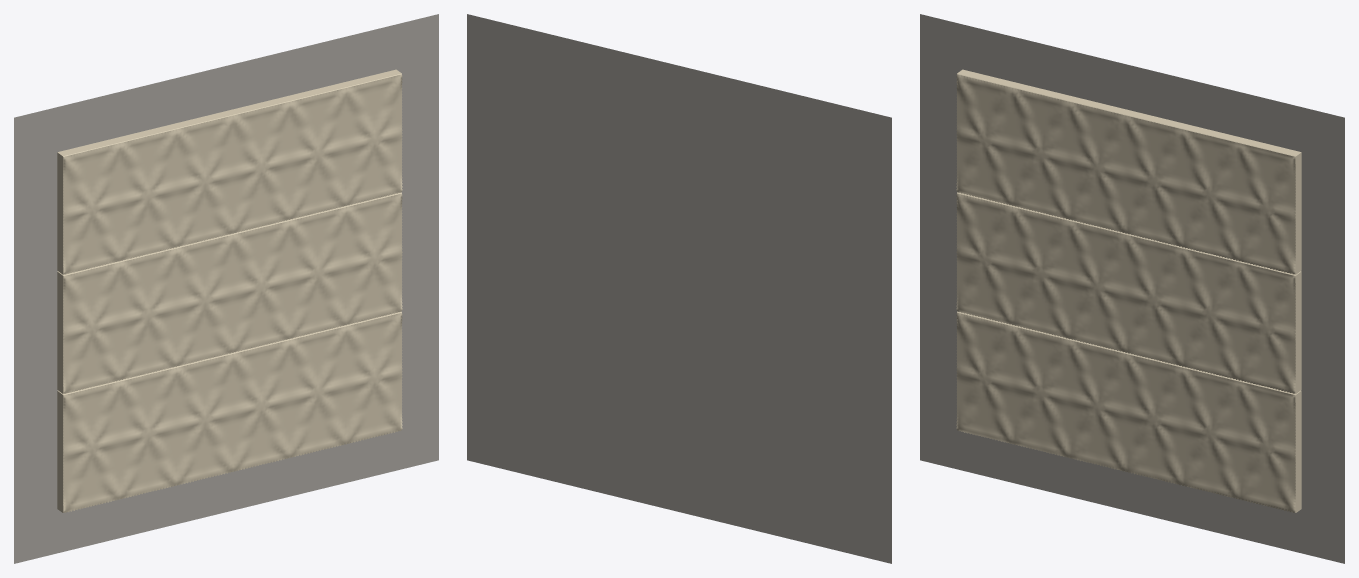
File: terilgan.glb
3 views of the same model, side by side, from view 1: azimuth 30°, elevation 25°; view 2: azimuth 150°, elevation 25°; view 3: azimuth 330°, elevation 25° (orthographic).
Parts seen in each view (by area): view 1: Plane, t2_0, t1_0, t0_0; view 2: Plane; view 3: Plane, t2_0, t1_0, t0_0.
Part boxes in pixels (box(x1,y1,x2,y2)): Plane: box(14, 14, 438, 563); t2_0: box(57, 69, 402, 274); t1_0: box(57, 192, 402, 393); t0_0: box(57, 311, 402, 512); Plane: box(467, 14, 891, 563); Plane: box(920, 14, 1344, 563); t2_0: box(956, 69, 1301, 274); t1_0: box(956, 192, 1301, 393); t0_0: box(956, 311, 1301, 512).
Bounding box in the file's own units: 1.5 × 1.51 × 0.044.
